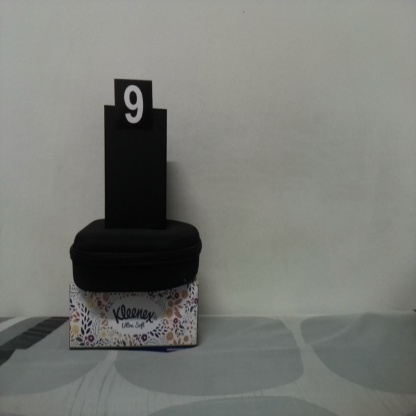id_9: (114, 78, 153, 145)
